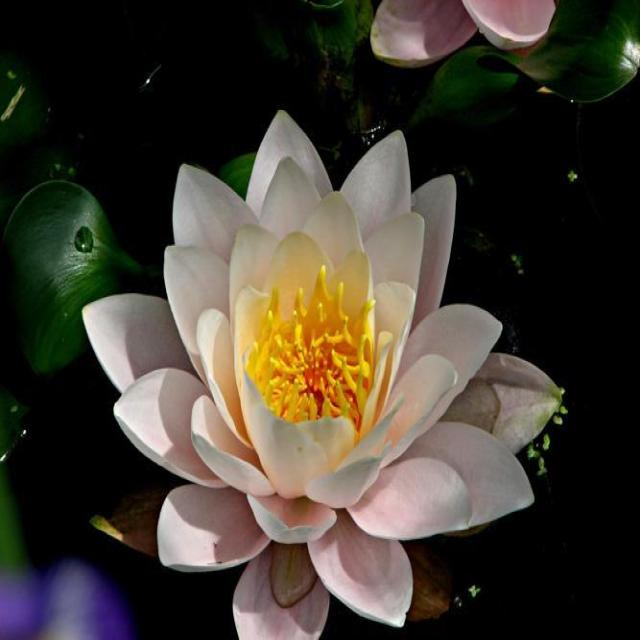water-lily: (68, 102, 568, 628)
